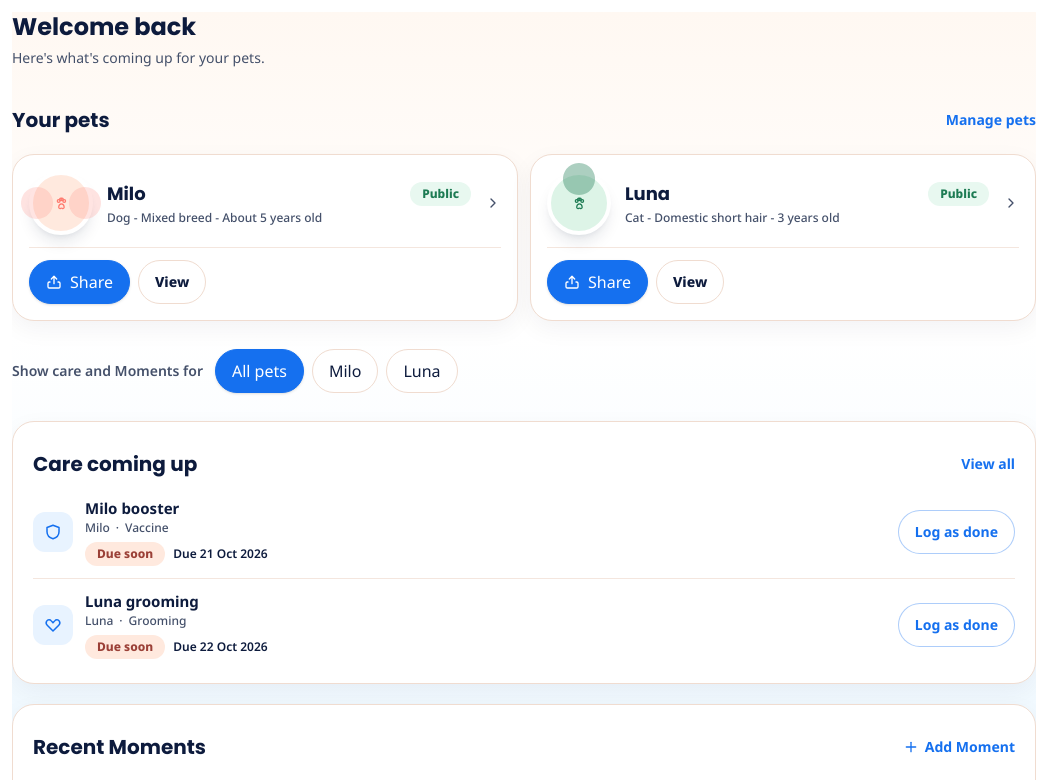
it: Pet filter › starts on All pets and filters care and Moments to the chosen pet
This screenshot has width=1048, height=780.
Expected: the text "Luna grooming" is shown, left=85, top=591, right=199, bottom=611
Expected: the text "Milo booster" is shown, left=85, top=498, right=179, bottom=518
Click the button "Luna": [422, 371] box left=386, top=349, right=458, bottom=393
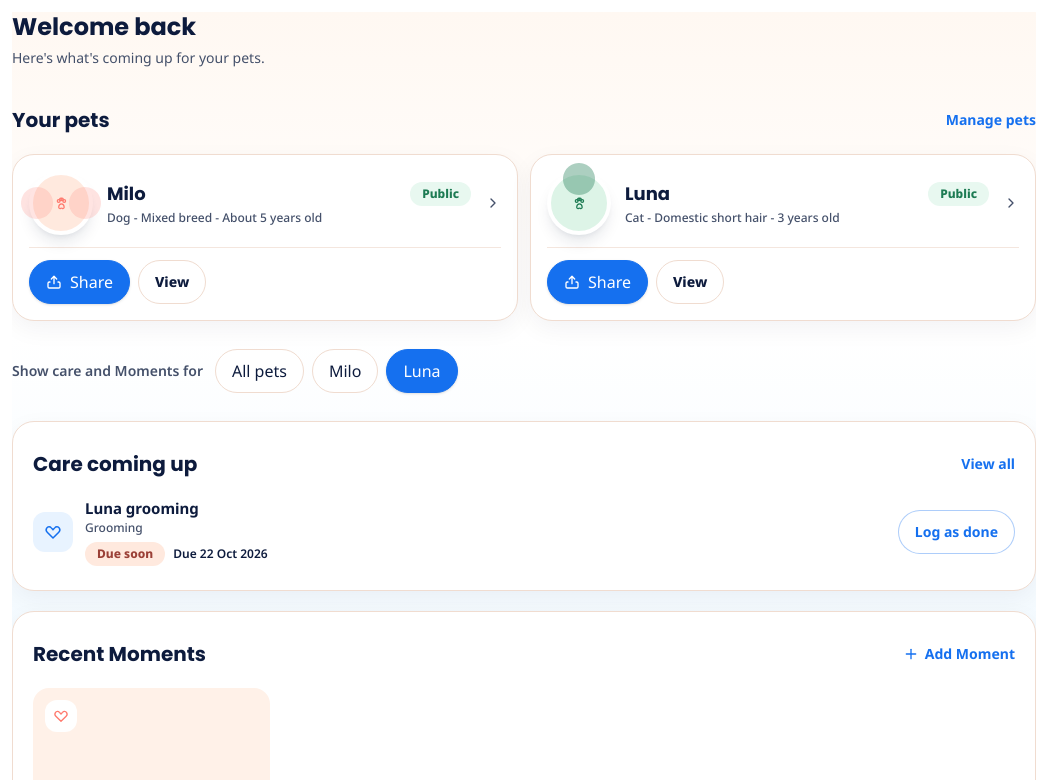
Expected: the text "Luna grooming" is shown, left=85, top=498, right=199, bottom=518
Result: the text "Milo booster" is gone
